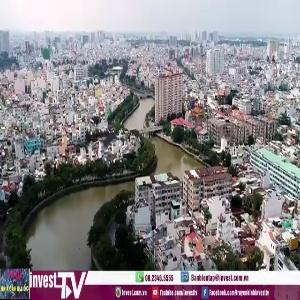drone: (71, 104, 146, 179)
